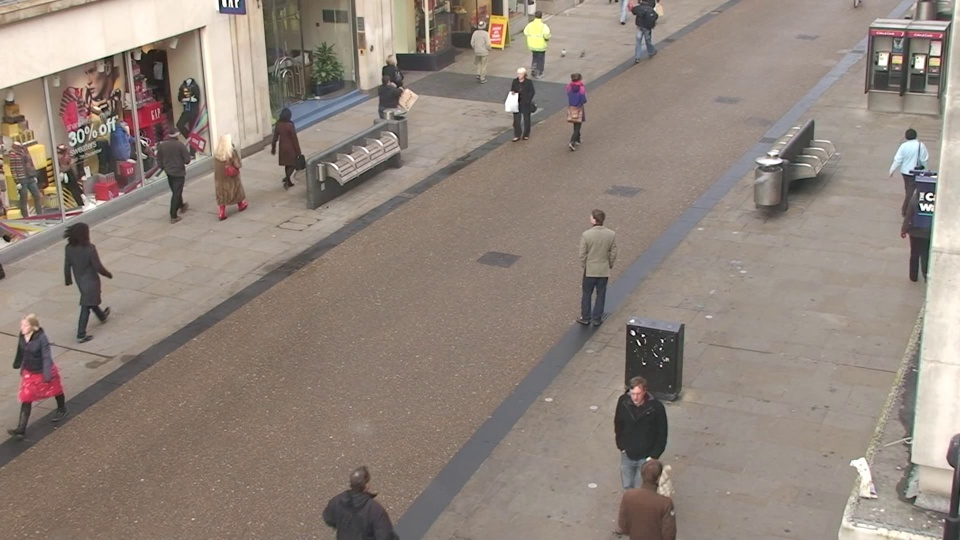pedestrian: (4, 306, 72, 452), (610, 372, 664, 533), (58, 219, 113, 339), (620, 446, 680, 540), (332, 455, 397, 540), (580, 203, 618, 323), (885, 124, 930, 225), (208, 128, 246, 225), (157, 123, 196, 217), (270, 104, 305, 195), (373, 71, 403, 154), (509, 64, 537, 146), (377, 53, 406, 131), (563, 67, 590, 149), (470, 18, 495, 86), (526, 8, 549, 74)
